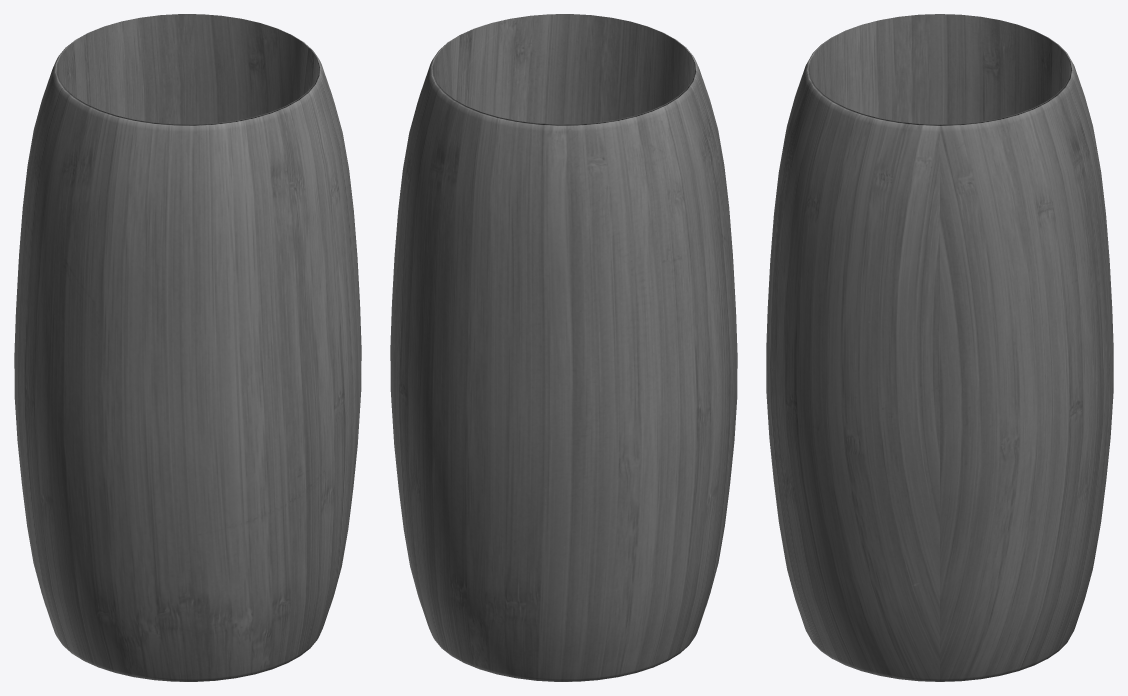
Rendered from vase.fbx.
3 views of the same model, side by side, from view 1: azimuth 30°, elevation 25°; view 2: azimuth 150°, elevation 25°; view 3: azimuth 270°, elevation 25° (orthographic).
Visible parts, largest first — view 1: pPipe1; view 2: pPipe1; view 3: pPipe1.
Boxes of the visible parts, x1,y1,x2,y2 form: pPipe1: (14,14,361,681); pPipe1: (390,14,737,681); pPipe1: (766,14,1113,681).
Bounding box in the file's own units: 4.75 × 8.4 × 4.75.
1 material, 1 textured.
